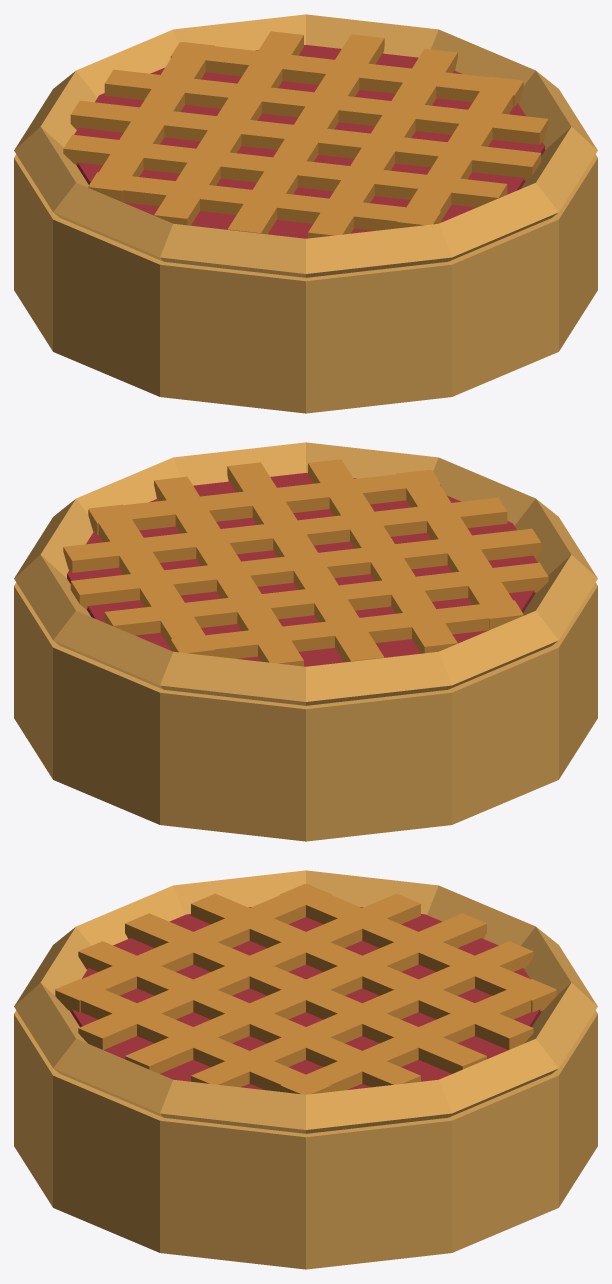
The model's file is Food_Pie.obj.
The picture shows the model from 3 angles, top to bottom: view 1: azimuth 30°, elevation 25°; view 2: azimuth 150°, elevation 25°; view 3: azimuth 270°, elevation 25°; orthographic projection.
Bounding box in the file's own units: 2.2 × 0.68 × 2.2.
